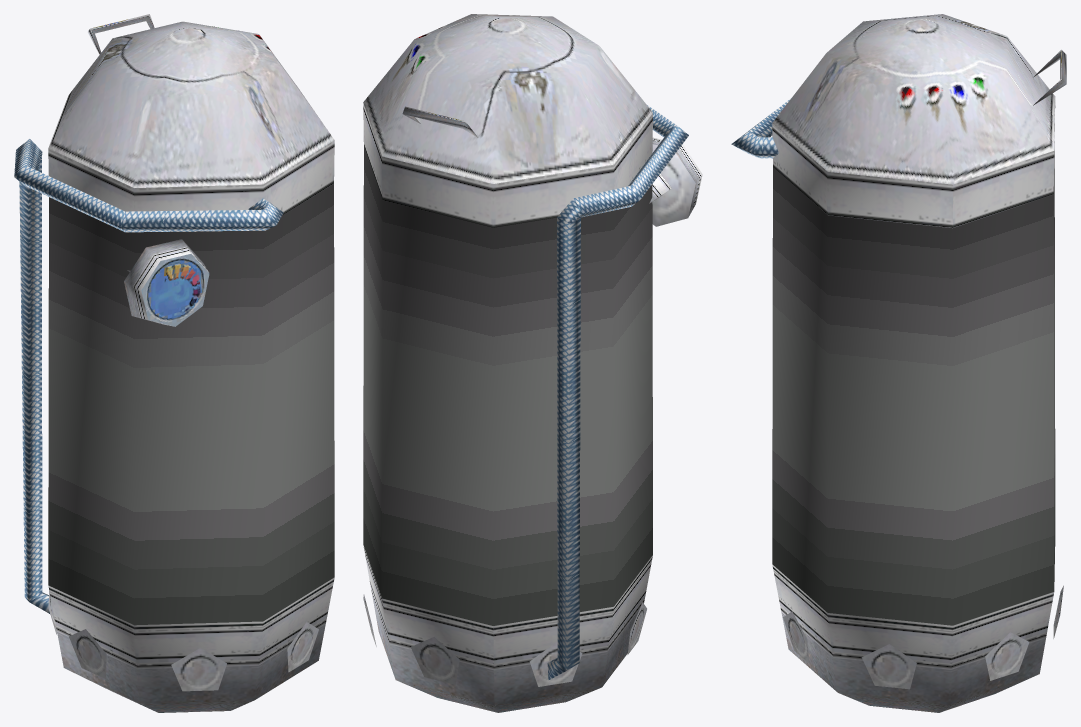
Rendered from eqp_medic_bacta_tank_l1.fbx.
The picture shows the model from 3 angles, left to right: view 1: azimuth 30°, elevation 25°; view 2: azimuth 150°, elevation 25°; view 3: azimuth 270°, elevation 25°; orthographic projection.
Visible parts, largest first — view 1: mesh_node; view 2: mesh_node; view 3: mesh_node.
Boxes of the visible parts, x1,y1,x2,y2 form: mesh_node: [14, 14, 334, 712]; mesh_node: [363, 14, 702, 712]; mesh_node: [731, 14, 1066, 712].
Bounding box in the file's own units: 0.6302 × 1.41 × 0.6494.
